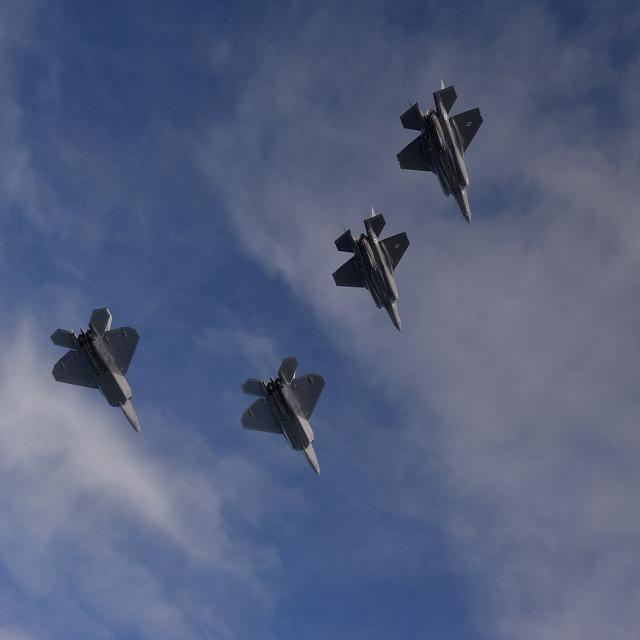MIL_Plane: (396, 79, 484, 225), (49, 307, 141, 435), (239, 356, 326, 476), (331, 206, 411, 332)
